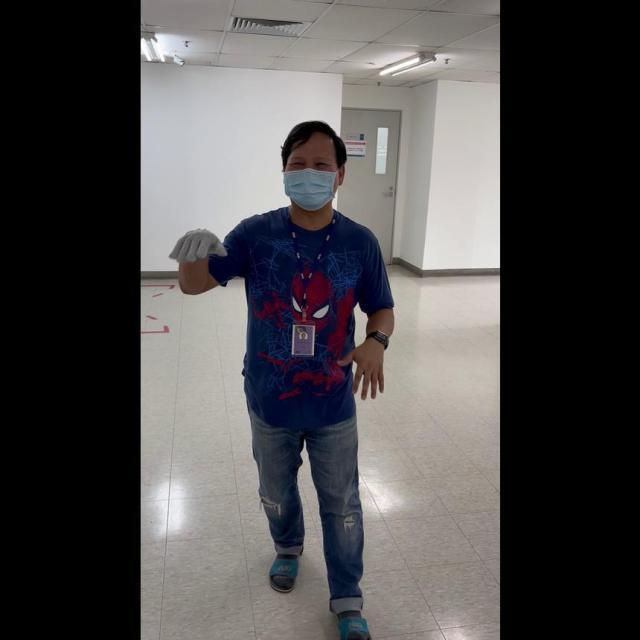bare_hand: (342, 335, 388, 399)
gloved_hand: (167, 223, 229, 267)
